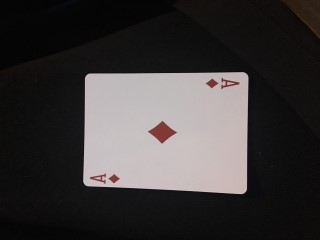AceOfDiamonds: (83, 71, 249, 194)
